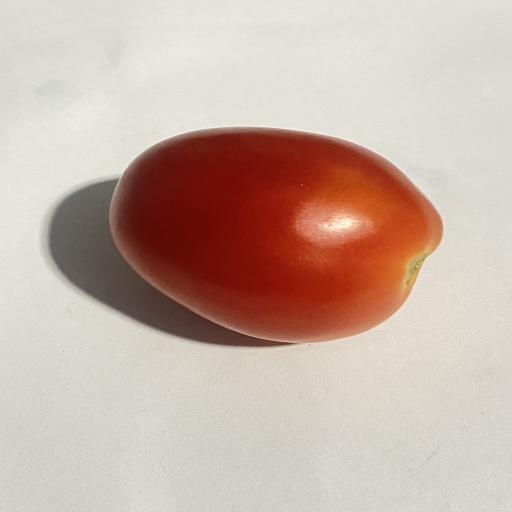ripe: (110, 127, 442, 342)
